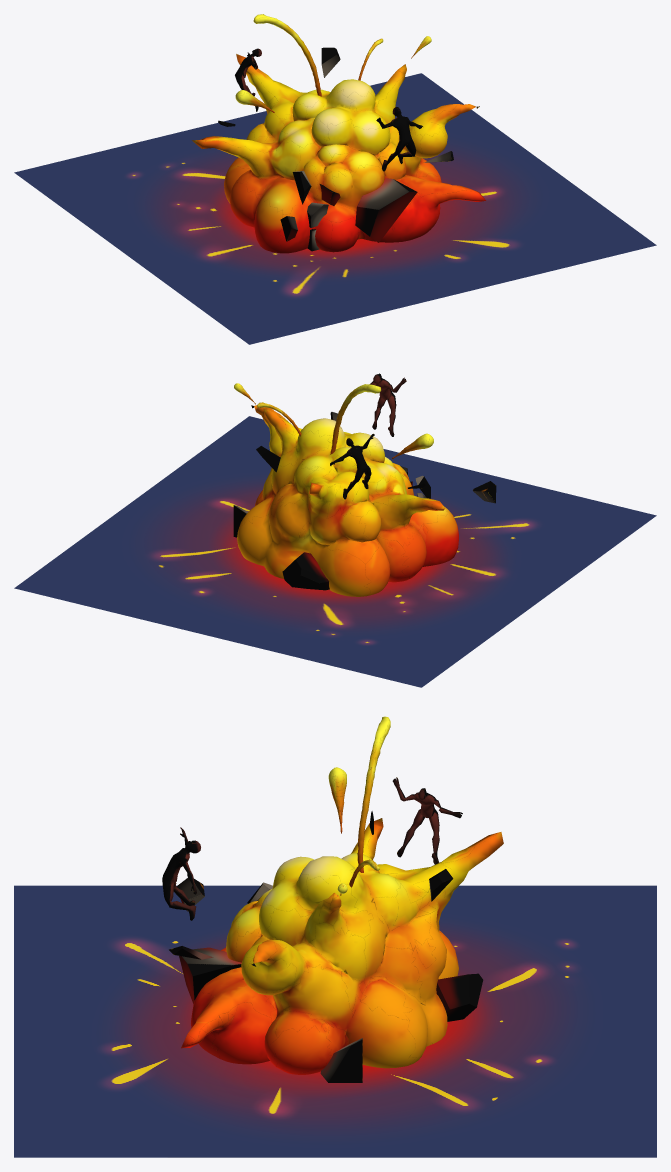
Rendered from Dramatic.obj.
3 renders of one model, top to bottom at view 1: azimuth 30°, elevation 25°; view 2: azimuth 150°, elevation 25°; view 3: azimuth 270°, elevation 25°, orthographic. The views are drawn at different scales.
Visible parts, largest first — view 1: Cube.002_Cube.006; view 2: Cube.002_Cube.006; view 3: Cube.002_Cube.006.
Part boxes in pixels (bbox=[...]): Cube.002_Cube.006: bbox=[14, 14, 656, 344]; Cube.002_Cube.006: bbox=[14, 373, 656, 687]; Cube.002_Cube.006: bbox=[14, 716, 656, 1157].
Bounding box in the file's own units: 42.5 × 20.99 × 42.5.
